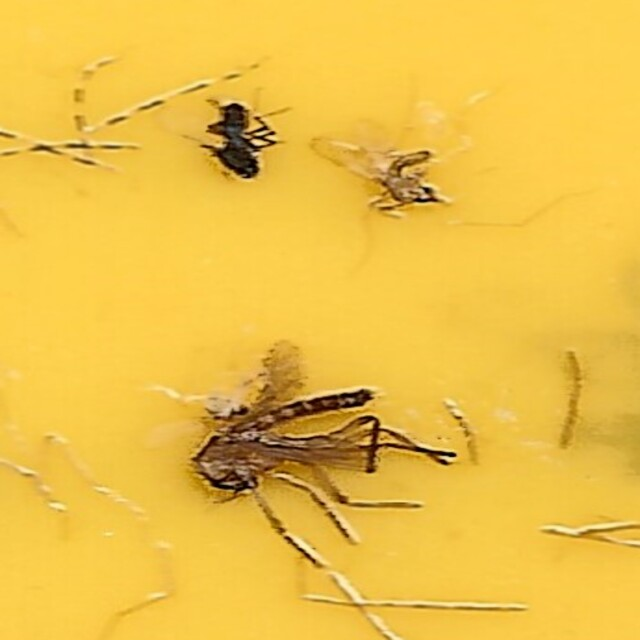Nematocera: (186, 337, 449, 514), (312, 126, 454, 216)
